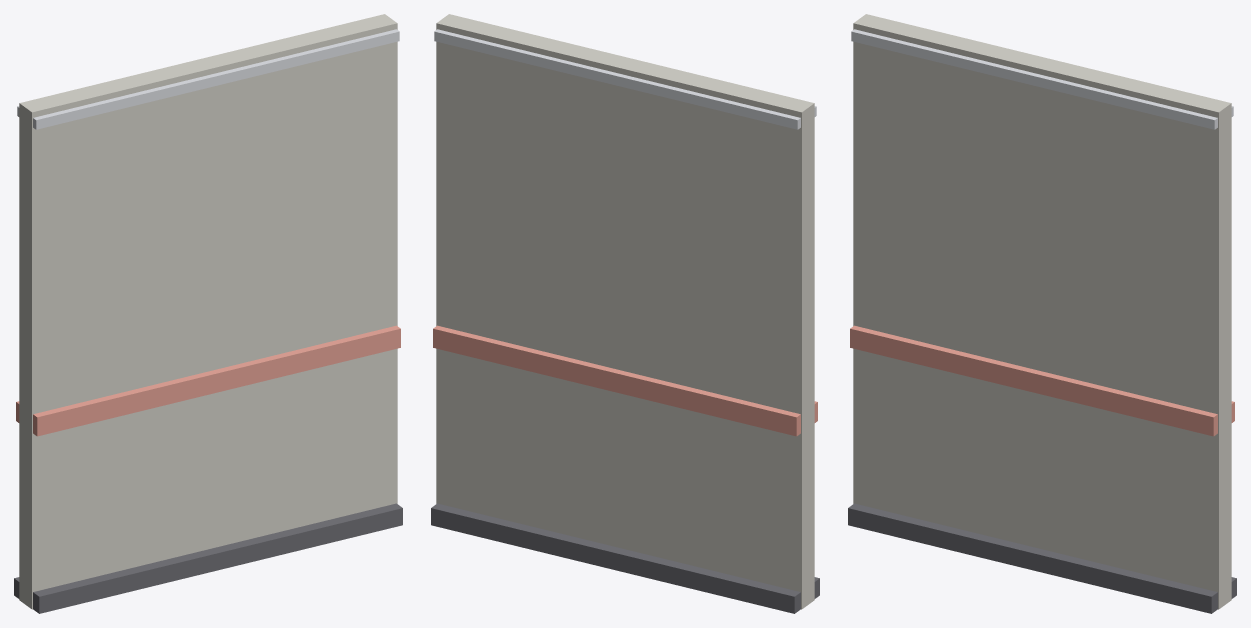
File: retro-diner-and-roadside-motel-diner-wall-panel-d1087061__37321.glb
3 views of the same model, side by side, from view 1: azimuth 30°, elevation 25°; view 2: azimuth 150°, elevation 25°; view 3: azimuth 330°, elevation 25° (orthographic).
Visible parts, largest first — view 1: diner-wall-panel-cream, diner-wall-panel-asphalt, diner-wall-panel-coral, diner-wall-panel-chrome; view 2: diner-wall-panel-cream, diner-wall-panel-asphalt, diner-wall-panel-coral, diner-wall-panel-chrome; view 3: diner-wall-panel-cream, diner-wall-panel-asphalt, diner-wall-panel-coral, diner-wall-panel-chrome.
Part boxes in pixels (box(x1,y1,x2,y2)): diner-wall-panel-cream: box(19, 14, 397, 609); diner-wall-panel-asphalt: box(14, 503, 402, 613); diner-wall-panel-coral: box(16, 325, 400, 436); diner-wall-panel-chrome: box(17, 29, 399, 129); diner-wall-panel-cream: box(436, 14, 814, 609); diner-wall-panel-asphalt: box(431, 503, 819, 613); diner-wall-panel-coral: box(433, 325, 817, 436); diner-wall-panel-chrome: box(434, 29, 816, 129); diner-wall-panel-cream: box(853, 14, 1231, 609); diner-wall-panel-asphalt: box(848, 503, 1236, 613); diner-wall-panel-coral: box(850, 325, 1234, 436); diner-wall-panel-chrome: box(851, 29, 1233, 129).
Bounding box in the file's own units: 2 × 2.6 × 0.24.
